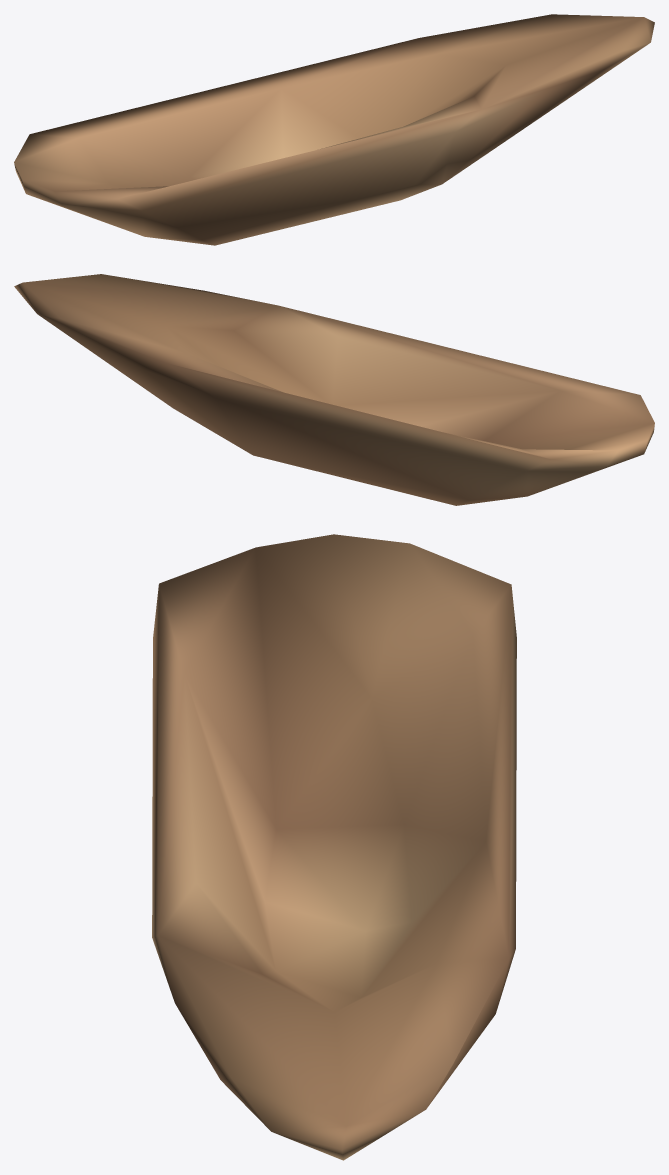
File: canoa_lejos.glb
The picture shows the model from 3 angles, top to bottom: view 1: azimuth 30°, elevation 25°; view 2: azimuth 150°, elevation 25°; view 3: azimuth 270°, elevation 25°; orthographic projection. The views are drawn at different scales.
Visible parts, largest first — view 1: canoa_lejos; view 2: canoa_lejos; view 3: canoa_lejos.
Boxes of the visible parts, left/top/right/bottom form: canoa_lejos: left=14, top=14, right=654, bottom=245; canoa_lejos: left=14, top=274, right=654, bottom=505; canoa_lejos: left=152, top=534, right=516, bottom=1160.
Bounding box in the file's own units: 3.8 × 0.5723 × 0.9507.
